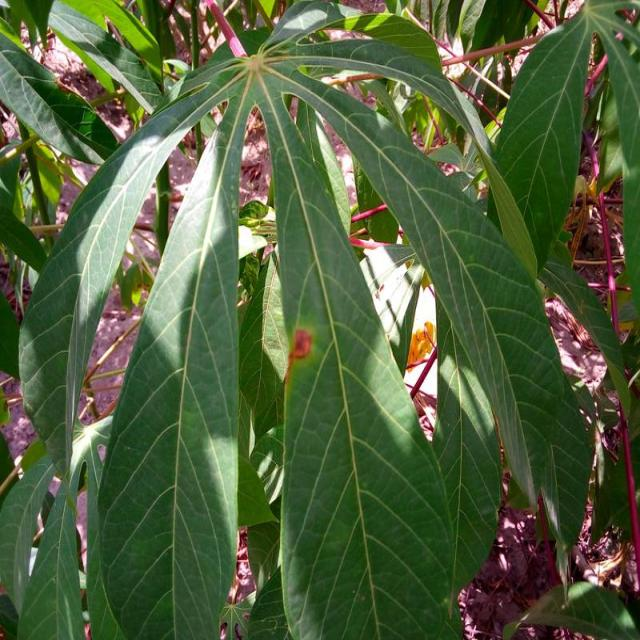cassava leaf: (14, 2, 601, 638), (258, 62, 460, 638), (85, 118, 242, 638)
